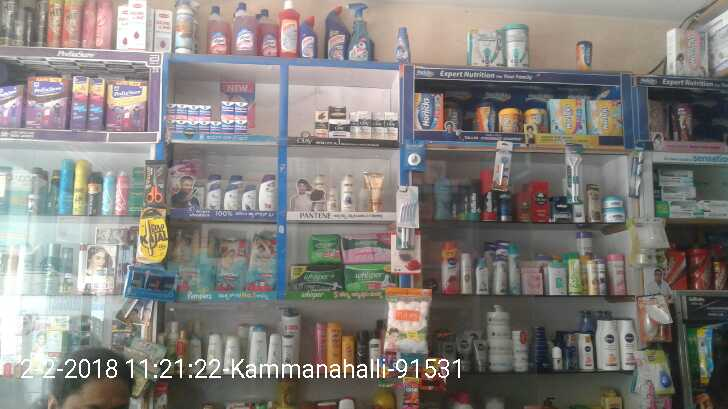beauty: (258, 174, 276, 212), (339, 173, 356, 211), (356, 110, 372, 138), (383, 112, 398, 140), (313, 109, 328, 136), (223, 184, 239, 209), (328, 120, 351, 137), (242, 186, 256, 211), (206, 184, 220, 209), (327, 104, 348, 120)
pharmacy: (244, 233, 276, 290), (213, 239, 247, 290), (340, 232, 390, 264), (288, 264, 342, 290), (342, 264, 391, 290), (308, 235, 342, 264), (179, 262, 215, 289)
